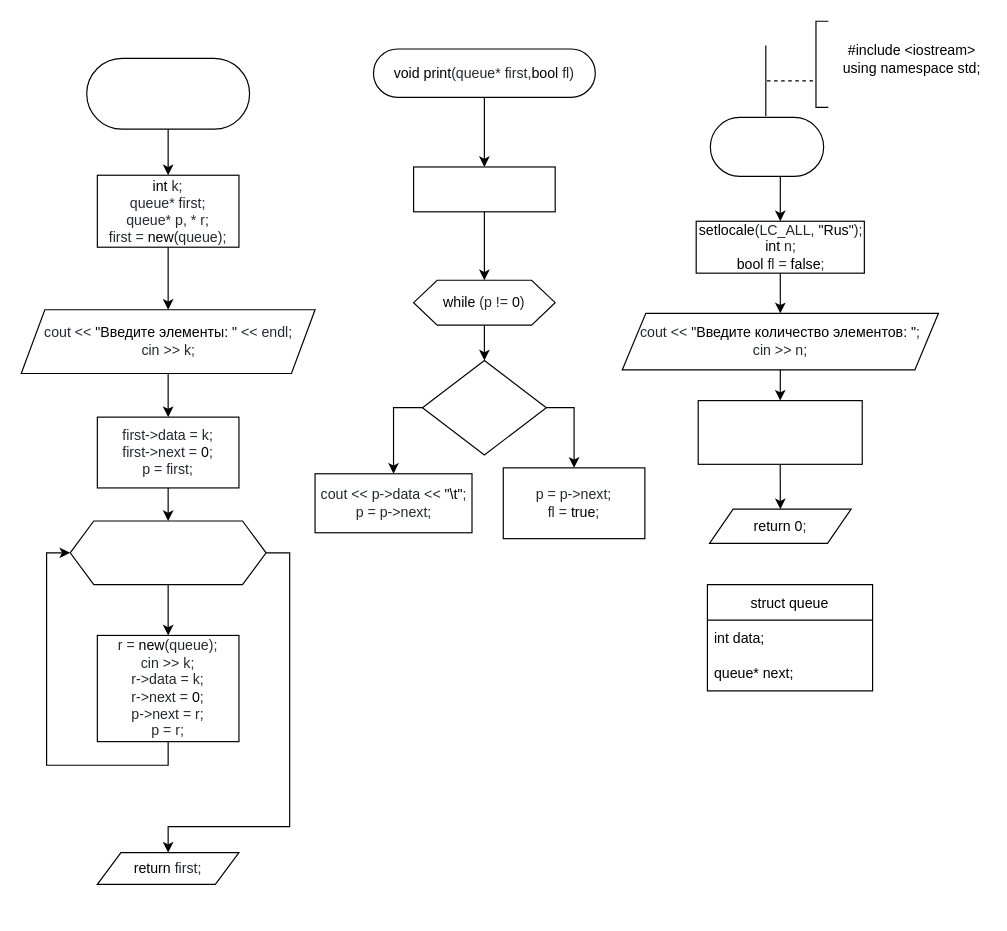
Image size: 1007x931. Some labels were removed from this diagram. The centre of each missing label's shape, as x and y in pixels:
"for ( int i = 0 ; i < n - 1 ; i++)" belongs at point 167,552.
"if (((p-> data )% 2 == 0 )&&(fl== false ))" belongs at point 483,407.
"int main()" belongs at point 766,146.
"queue* add ( int n)" belongs at point 168,93.
"queue* first = add (n); print (first,fl);" belongs at point 779,431.
"queue* p = first;" belongs at point 483,189.
